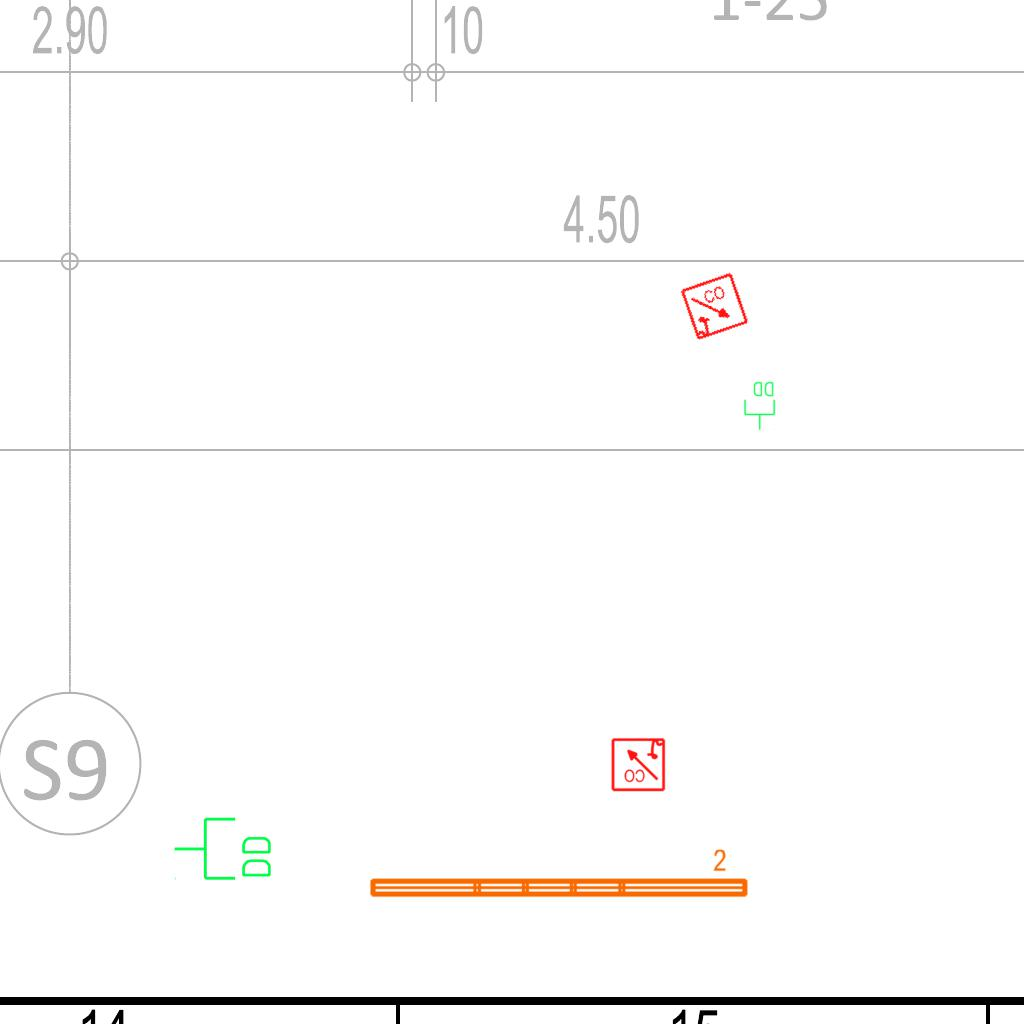Ambulanz_Pendelleuchte_LED: (365, 847, 752, 903)
Datenanschluss_zweifach: (172, 815, 275, 884), (743, 380, 777, 431)
ROA_Rauchmelder_optisch_mit_Signalgeber_(Sockelsirene): (679, 271, 751, 343), (610, 736, 666, 792)
